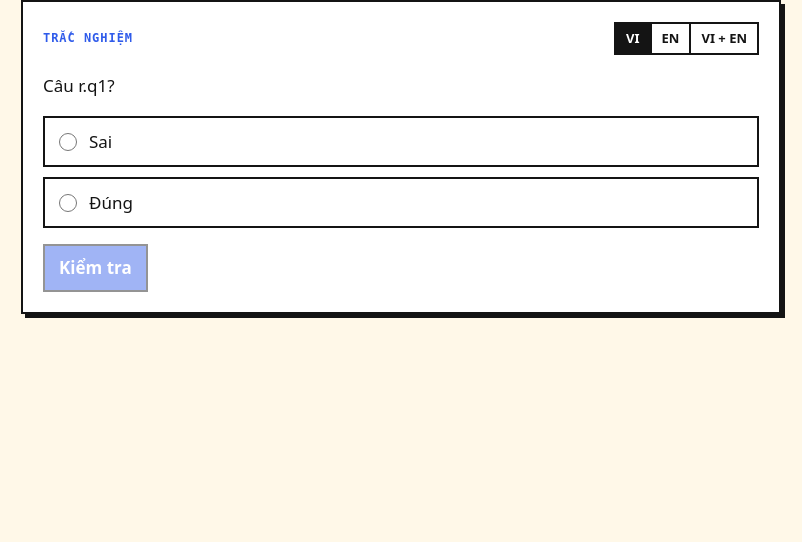
Test: ItemView › a wrong answer with a misconception shows its card, reports the concept and offers no practice inside
Click the radio button labelled "Sai" at x=68, y=142, box [59,133,77,151]
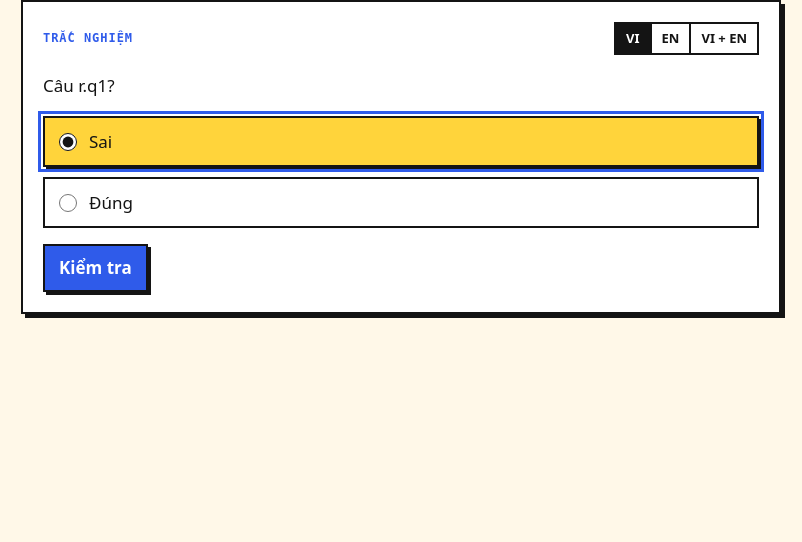
Click the button "Kiểm tra" at x=95, y=268, box [43,244,148,292]
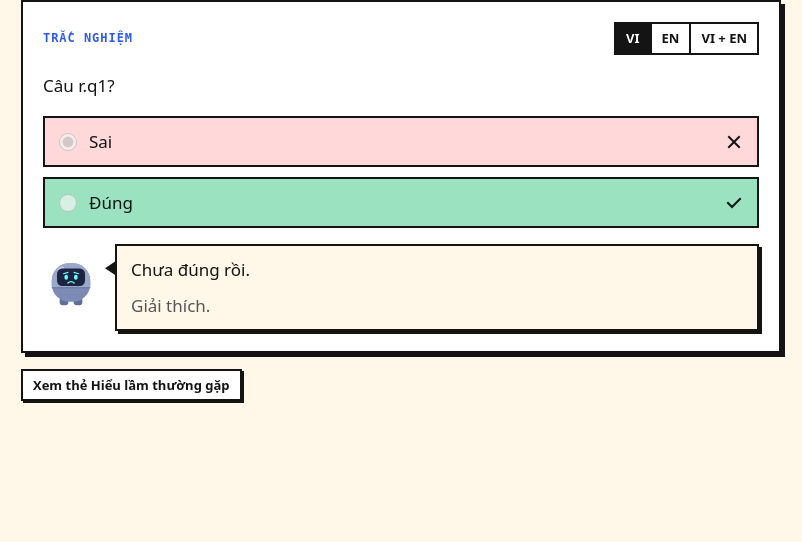
Click the button "Xem thẻ Hiểu lầm thường gặp" at x=131, y=385, box [21,369,242,401]
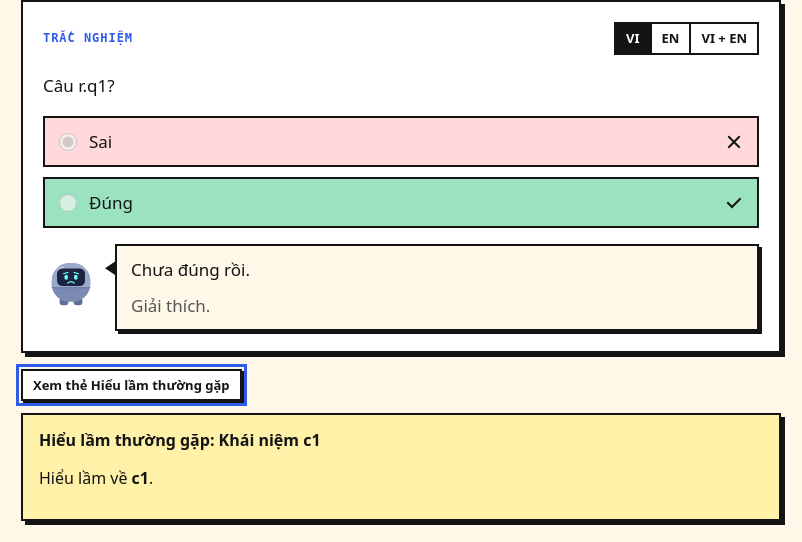
Check: the element "Hiểu lầm thường gặp" shows "Hiểu lầm thường gặp: Khái niệm c1", box [21,413,781,521]
Check: the element "Hiểu lầm thường gặp" shows "Hiểu lầm về c1.", box [21,413,781,521]
